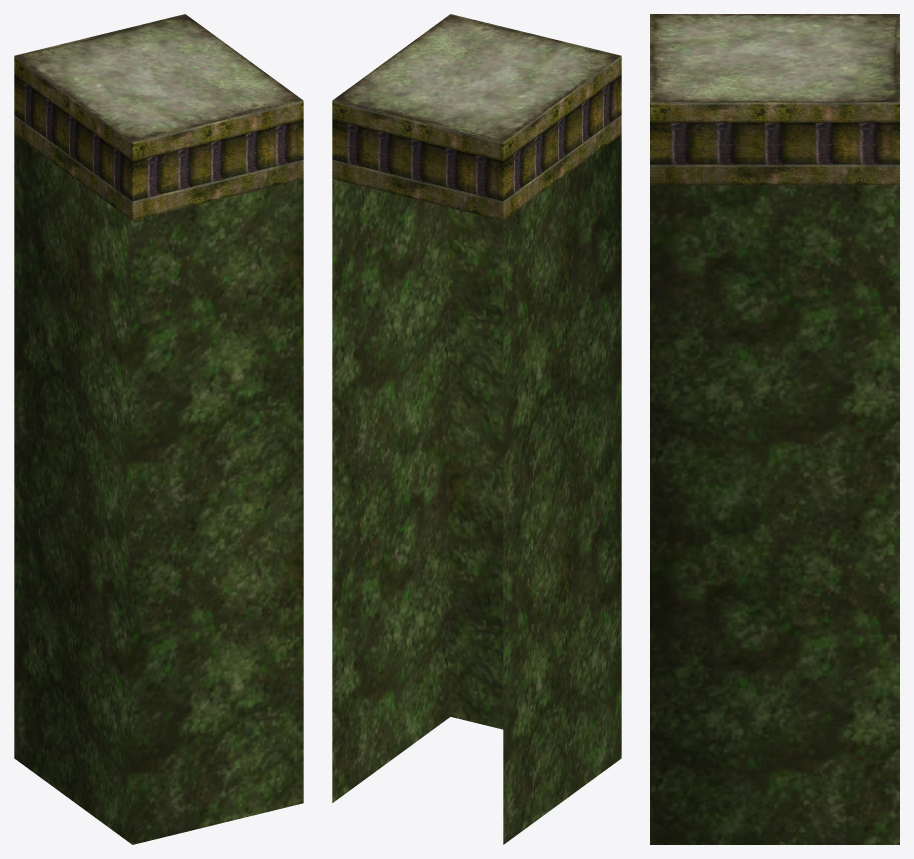
File: ANIMATEDINSTANCES_PLATFORM001_AI.fbx
3 renders of one model, left to right at view 1: azimuth 30°, elevation 25°; view 2: azimuth 150°, elevation 25°; view 3: azimuth 270°, elevation 25°, orthographic. The views are drawn at different scales.
Parts seen in each view (by area): view 1: ANIMATEDINSTANCES_PLATFORM001_AI; view 2: ANIMATEDINSTANCES_PLATFORM001_AI; view 3: ANIMATEDINSTANCES_PLATFORM001_AI.
Part boxes in pixels (x1=…): ANIMATEDINSTANCES_PLATFORM001_AI: x1=14, y1=14, x2=303, y2=844; ANIMATEDINSTANCES_PLATFORM001_AI: x1=332, y1=14, x2=621, y2=844; ANIMATEDINSTANCES_PLATFORM001_AI: x1=650, y1=14, x2=899, y2=844.
Bounding box in the file's own units: 17889 × 70288 × 21417.
3 materials, 3 textured.
